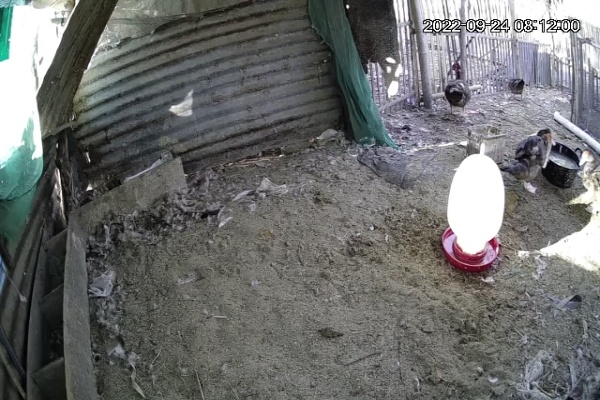Entog: (498, 125, 559, 197), (442, 59, 471, 119)
